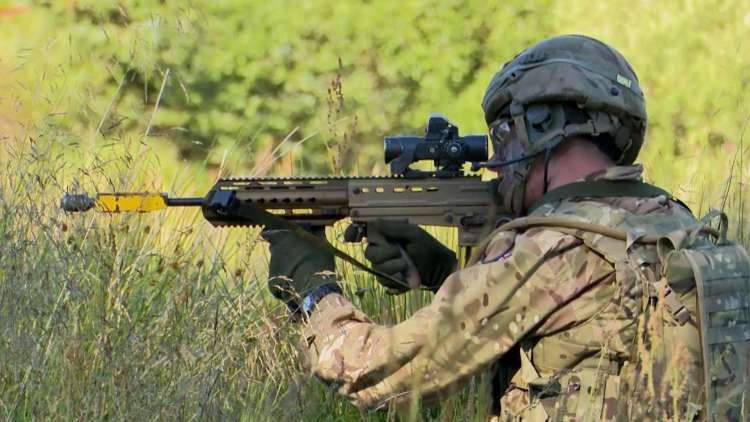Rifle: (56, 114, 521, 298)
